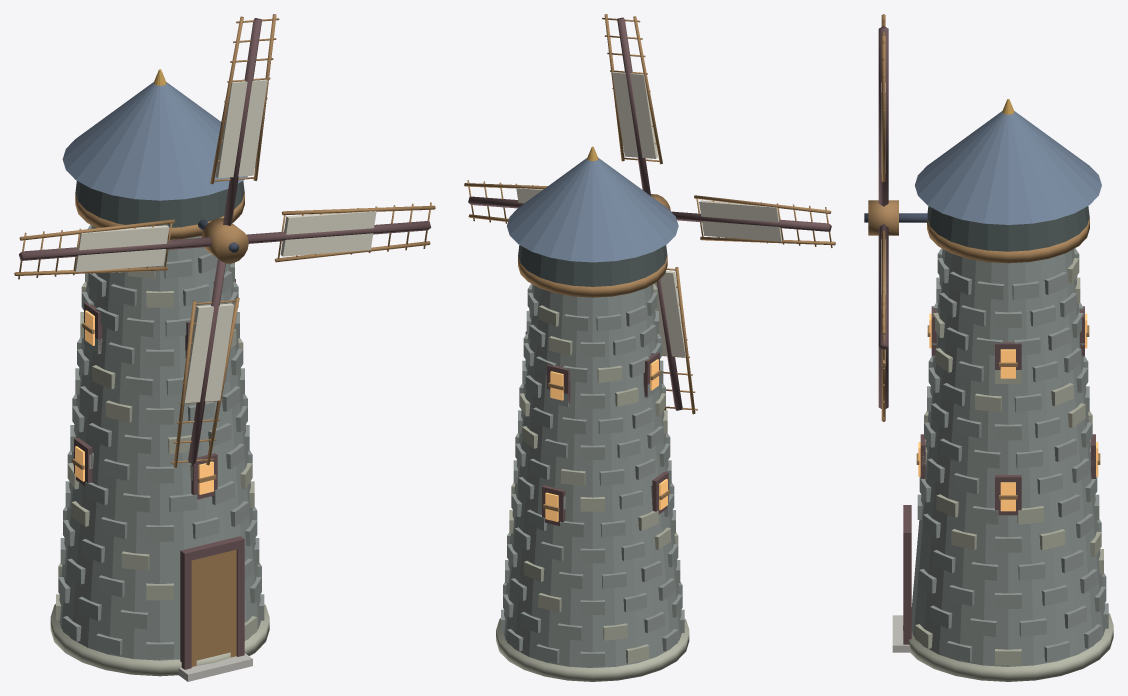
File: windmill_large.glb
3 views of the same model, side by side, from view 1: azimuth 30°, elevation 25°; view 2: azimuth 150°, elevation 25°; view 3: azimuth 270°, elevation 25° (orthographic). The views are drawn at different scales.
Parts seen in each view (by area): view 1: Windmill_fieldstone_tower, move_spin_Windmill_large_sails, Windmill_slate_cap, Windmill_oak_door, Windmill_timber_cap, Windmill_stone_foot, Windmill_door_jamb, Windmill_cap_platform, Windmill_door_jamb.001, Windmill_threshold, Windmill_door_lintel; view 2: Windmill_fieldstone_tower, move_spin_Windmill_large_sails, Windmill_slate_cap, Windmill_timber_cap, Windmill_stone_foot, Windmill_cap_platform; view 3: Windmill_fieldstone_tower, Windmill_slate_cap, move_spin_Windmill_large_sails, Windmill_timber_cap, Windmill_stone_foot, Windmill_cap_platform, Windmill_door_jamb.001, Windmill_dark_window.002, Windmill_threshold, Windmill_weathered_stone.032, Windmill_weathered_stone.011, Windmill_weathered_stone.041 (+33 smaller).
Part boxes in pixels (x1=…): Windmill_fieldstone_tower: x1=59, y1=225, x2=260, y2=660; move_spin_Windmill_large_sails: x1=14, y1=14, x2=435, y2=467; Windmill_slate_cap: x1=62, y1=82, x2=255, y2=200; Windmill_oak_door: x1=191, y1=549, x2=236, y2=666; Windmill_timber_cap: x1=75, y1=181, x2=244, y2=227; Windmill_stone_foot: x1=50, y1=604, x2=269, y2=676; Windmill_door_jamb: x1=180, y1=554, x2=191, y2=669; Windmill_cap_platform: x1=75, y1=192, x2=244, y2=239; Windmill_door_jamb.001: x1=236, y1=542, x2=244, y2=656; Windmill_threshold: x1=178, y1=653, x2=252, y2=681; Windmill_door_lintel: x1=180, y1=536, x2=244, y2=560; Windmill_fieldstone_tower: x1=503, y1=284, x2=681, y2=667; move_spin_Windmill_large_sails: x1=464, y1=14, x2=835, y2=414; Windmill_slate_cap: x1=507, y1=158, x2=678, y2=262; Windmill_timber_cap: x1=518, y1=245, x2=667, y2=286; Windmill_stone_foot: x1=496, y1=618, x2=689, y2=681; Windmill_cap_platform: x1=518, y1=255, x2=667, y2=297; Windmill_fieldstone_tower: x1=911, y1=249, x2=1105, y2=666; Windmill_slate_cap: x1=914, y1=111, x2=1101, y2=224; move_spin_Windmill_large_sails: x1=868, y1=14, x2=898, y2=421; Windmill_timber_cap: x1=927, y1=206, x2=1089, y2=251; Windmill_stone_foot: x1=903, y1=613, x2=1113, y2=681; Windmill_cap_platform: x1=927, y1=217, x2=1089, y2=263; Windmill_door_jamb.001: x1=903, y1=537, x2=911, y2=644; Windmill_dark_window.002: x1=995, y1=475, x2=1021, y2=515; Windmill_threshold: x1=892, y1=615, x2=910, y2=652; Windmill_weathered_stone.032: x1=1018, y1=562, x2=1045, y2=580; Windmill_weathered_stone.011: x1=1019, y1=618, x2=1046, y2=636; Windmill_weathered_stone.041: x1=971, y1=562, x2=998, y2=580.
Bounding box in the file's own units: 8.41 × 12.56 × 4.5.
